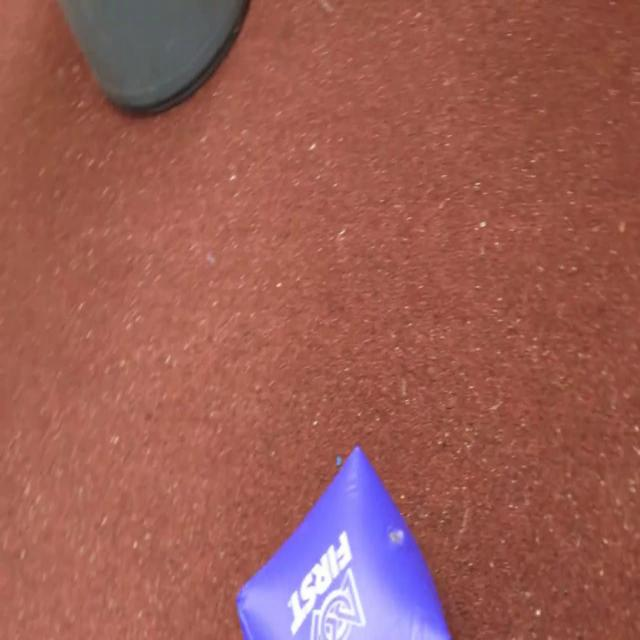frc_cube: (235, 443, 455, 640)
